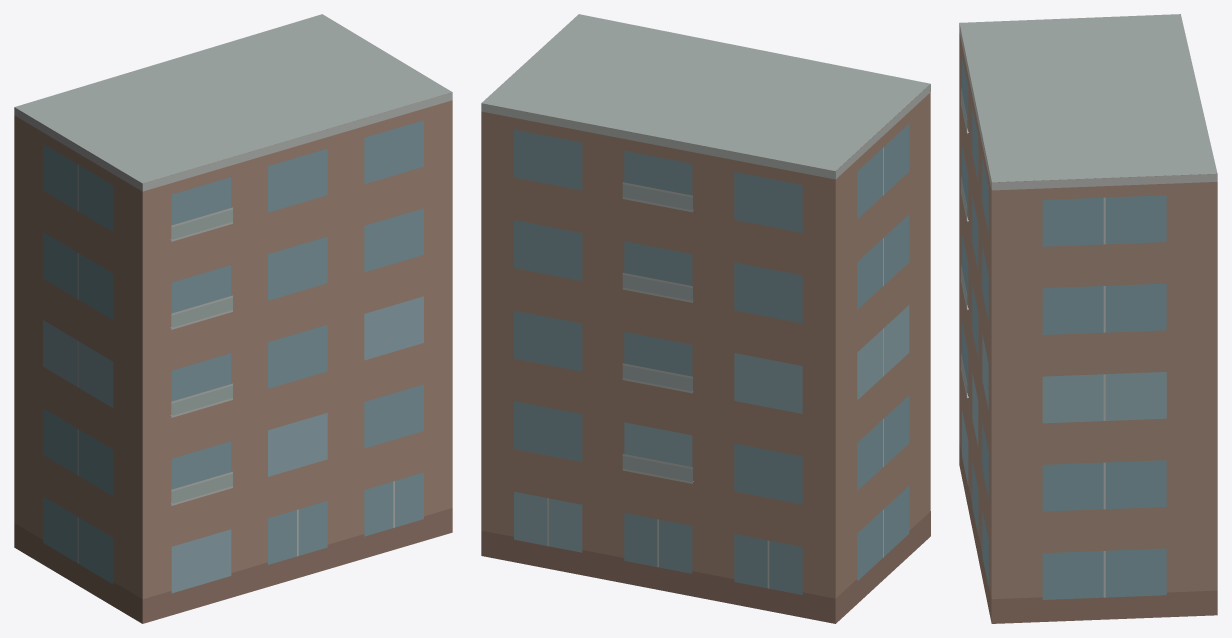
The model's file is survey-upis-32637193.glb.
3 renders of one model, left to right at view 1: azimuth 30°, elevation 25°; view 2: azimuth 150°, elevation 25°; view 3: azimuth 270°, elevation 25°, orthographic. The views are drawn at different scales.
Visible parts, largest first — view 1: survey-upis-32637193.tmp; view 2: survey-upis-32637193.tmp; view 3: survey-upis-32637193.tmp.
Part boxes in pixels (x1=…): survey-upis-32637193.tmp: x1=14, y1=14, x2=452, y2=623; survey-upis-32637193.tmp: x1=481, y1=14, x2=930, y2=623; survey-upis-32637193.tmp: x1=959, y1=14, x2=1217, y2=623.
Size of the model in its own units: 10.85 by 13.26 by 7.04.
